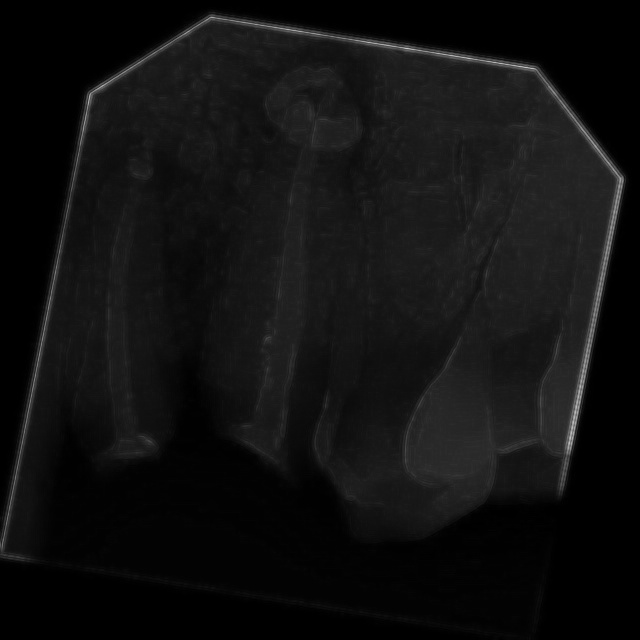Class 1- complete endodontic treatment: (142, 32, 436, 494)
